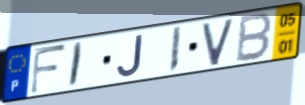B: (233, 11, 274, 65)
F: (28, 43, 69, 97)
I: (67, 40, 86, 90), (167, 24, 183, 75)
J: (115, 33, 145, 79)
V: (200, 17, 236, 68)
